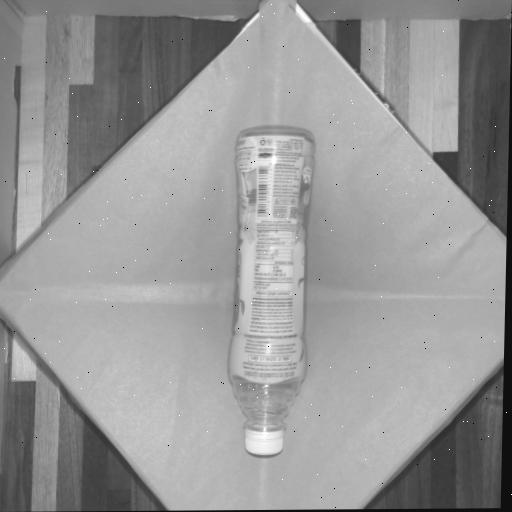bottle: (229, 128, 313, 455)
